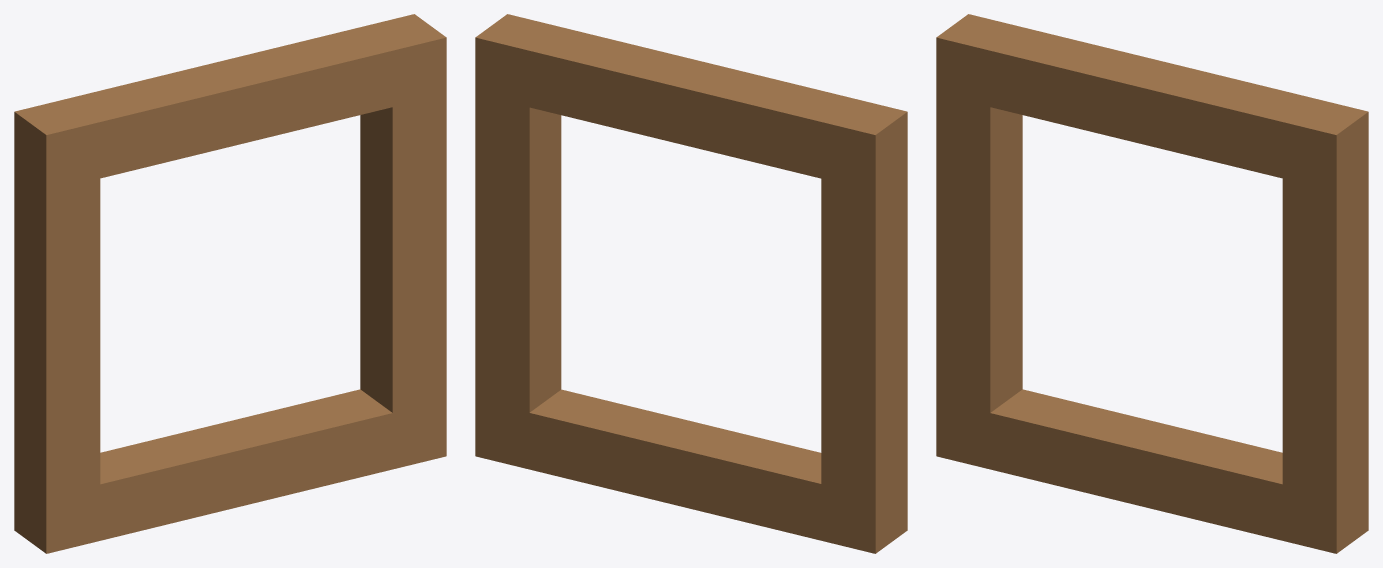
The model's file is frame.glb.
3 renders of one model, left to right at view 1: azimuth 30°, elevation 25°; view 2: azimuth 150°, elevation 25°; view 3: azimuth 330°, elevation 25°, orthographic.
Visible parts, largest first — view 1: frame_01_Target2; view 2: frame_01_Target2; view 3: frame_01_Target2.
Boxes of the visible parts, x1,y1,x2,y2 form: frame_01_Target2: (14, 14, 446, 553); frame_01_Target2: (475, 14, 907, 553); frame_01_Target2: (936, 14, 1368, 553).
Size of the model in its own units: 0.1555 by 0.1555 by 0.0216.
